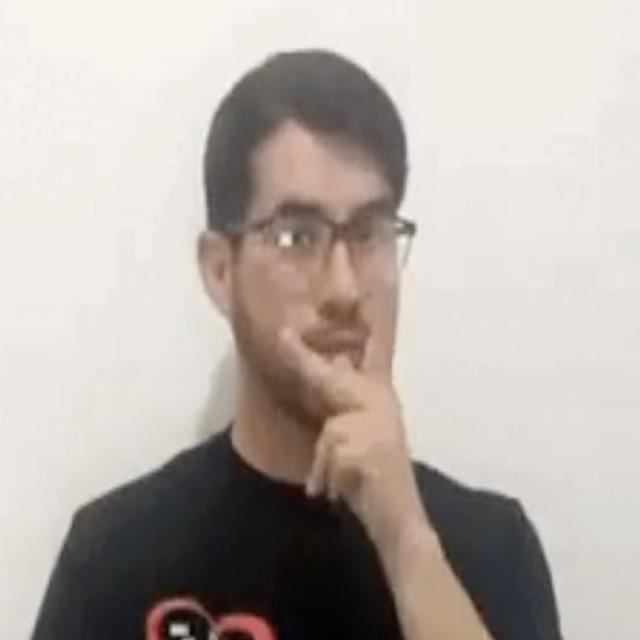PAPA: (270, 270, 412, 507)
